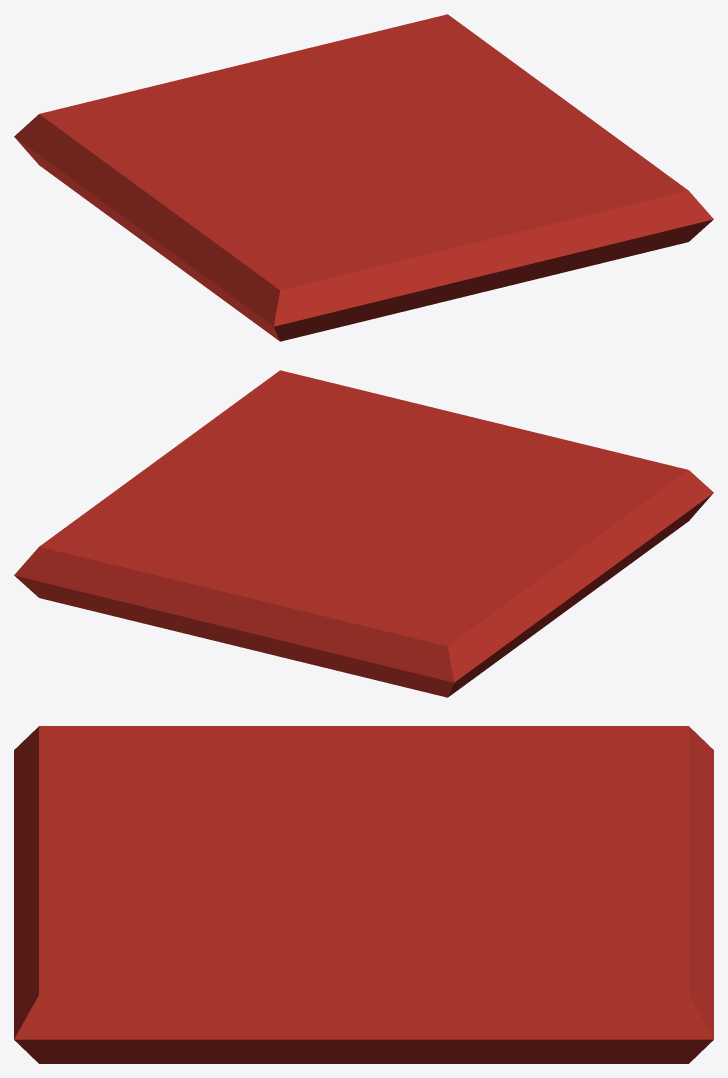
File: plate_02.FBX
The picture shows the model from 3 angles, top to bottom: view 1: azimuth 30°, elevation 25°; view 2: azimuth 150°, elevation 25°; view 3: azimuth 270°, elevation 25°; orthographic projection. The views are drawn at different scales.
Visible parts, largest first — view 1: plate_01; view 2: plate_01; view 3: plate_01.
Boxes of the visible parts, x1=… form: plate_01: x1=14, y1=14, x2=713, y2=341; plate_01: x1=14, y1=370, x2=713, y2=697; plate_01: x1=14, y1=726, x2=713, y2=1063.
Size of the model in its own units: 274 by 30.57 by 280.
